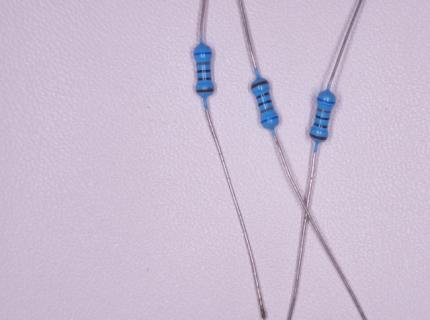Black band: (258, 99, 272, 107), (255, 92, 270, 99), (313, 122, 328, 129), (315, 115, 329, 121), (197, 69, 211, 73), (197, 77, 211, 81)
Blue band: (317, 97, 335, 104), (261, 117, 278, 123), (194, 52, 212, 56)
Brown band: (250, 80, 268, 89), (309, 133, 328, 141), (196, 89, 214, 93)
Grey band: (260, 106, 273, 114), (317, 108, 331, 114), (196, 62, 211, 65)
